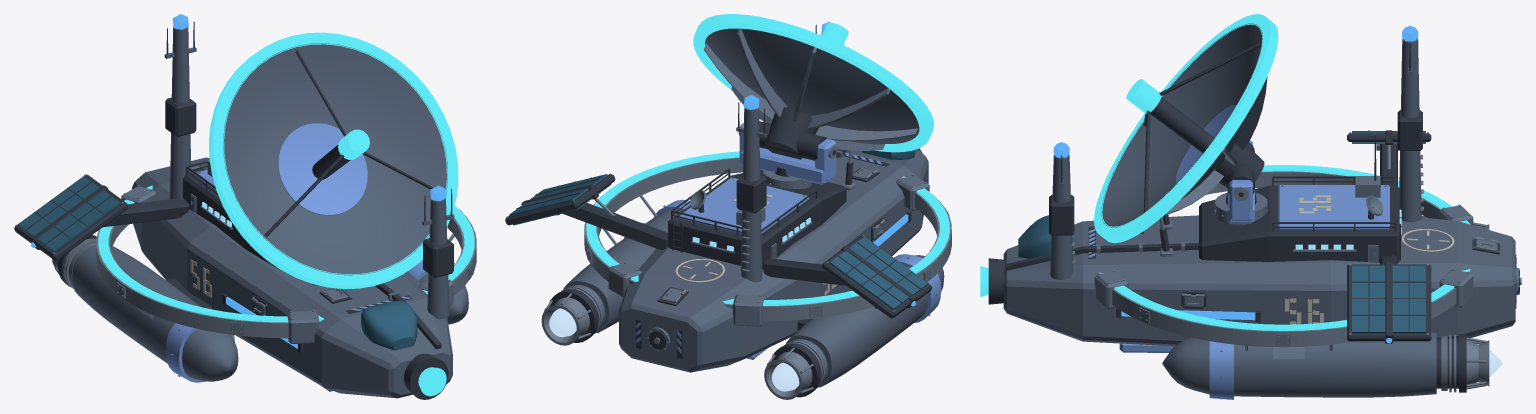
File: signal_booster.glb
3 renders of one model, left to right at view 1: azimuth 30°, elevation 25°; view 2: azimuth 150°, elevation 25°; view 3: azimuth 270°, elevation 25°, orthographic. The views are drawn at different scales.
Visible parts, largest first — view 1: signal_booster; view 2: signal_booster; view 3: signal_booster.
Part boxes in pixels (<box>): signal_booster: <box>14,14,476,399</box>; signal_booster: <box>505,14,951,399</box>; signal_booster: <box>980,14,1521,399</box>.
Size of the model in its own units: 4.6 by 3.22 by 5.12.
